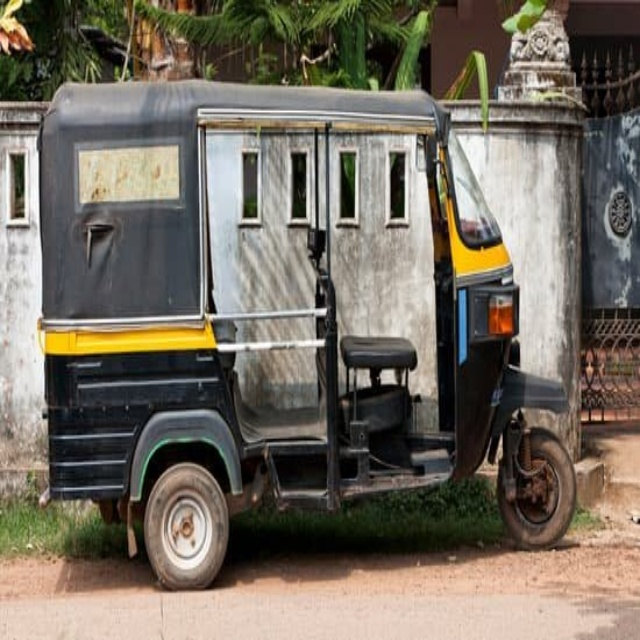Motorcycle: (37, 82, 577, 591)
